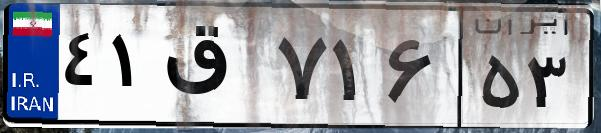1: (330, 28, 385, 110), (110, 28, 158, 98)
3: (525, 38, 570, 115)
4: (57, 26, 110, 100)
5: (475, 38, 525, 113)
6: (385, 28, 445, 110)
7: (270, 28, 330, 110)
ق: (158, 20, 270, 120)
